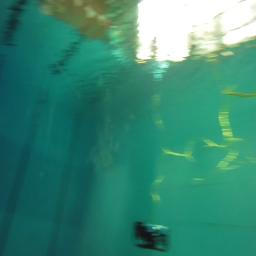Side: (132, 220, 170, 253)
